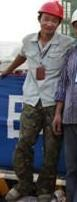boots: (4, 187, 21, 201)
hard-hat: (38, 0, 64, 19)
